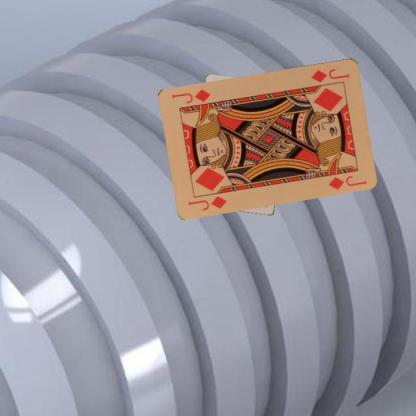Jd: (309, 66, 351, 84), (186, 193, 228, 211)
